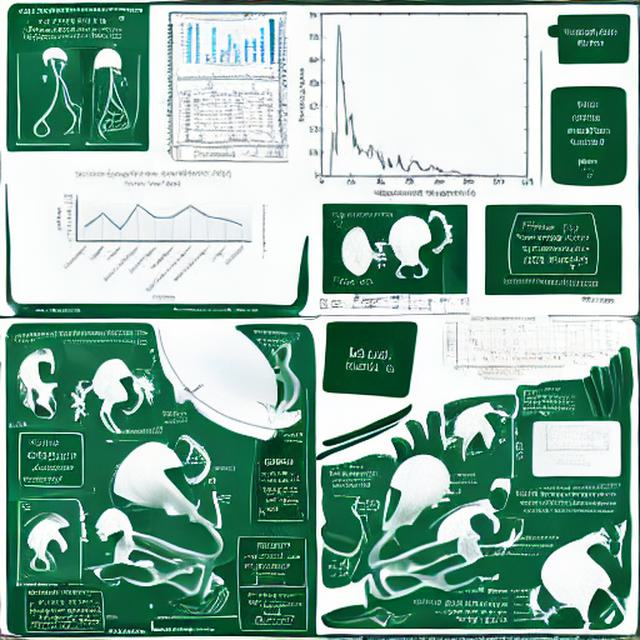Graph: (293, 9, 538, 201), (50, 166, 255, 301), (444, 316, 547, 377), (175, 17, 267, 68), (541, 424, 595, 455)
